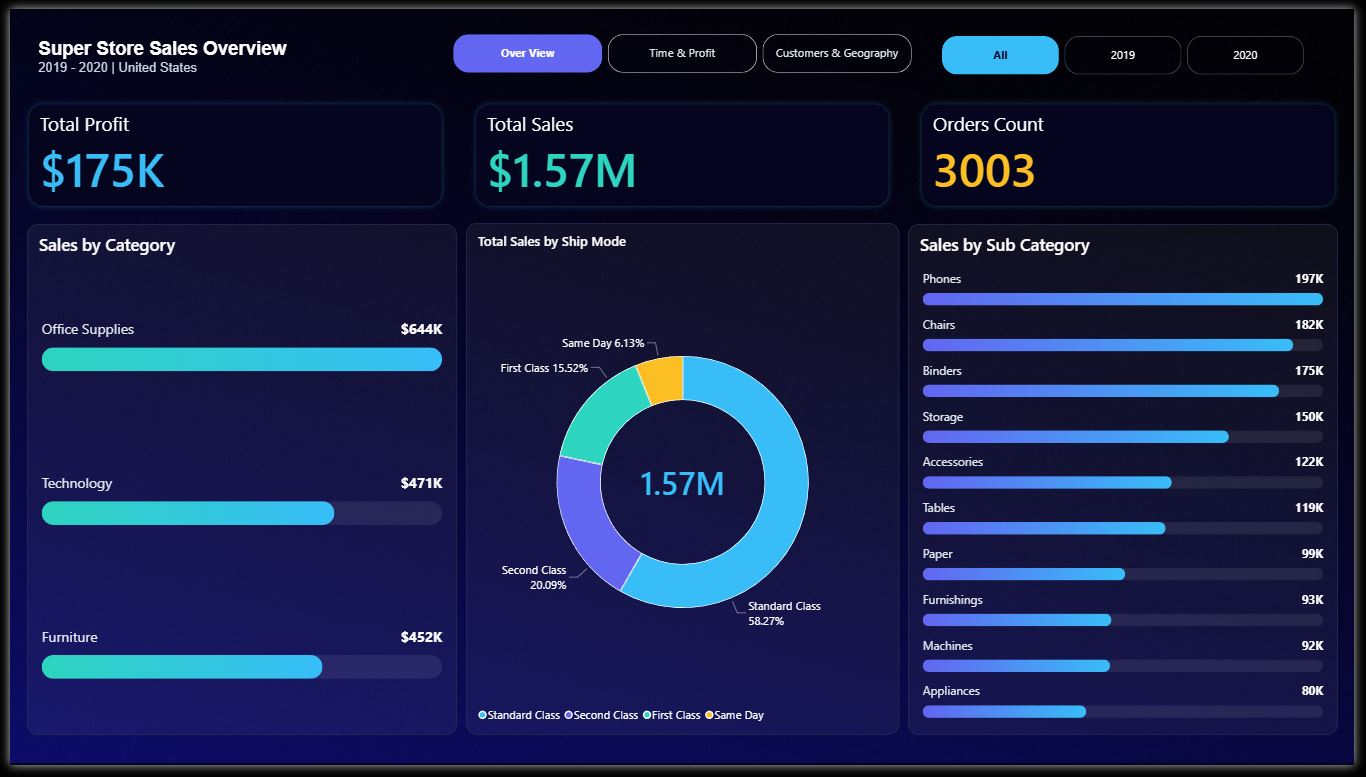

The page's visual inventory and layout, read from the dashboard file:
{"tool":"powerbi","page":{"name":"Over View","canvas":[1920,1080],"ordinal":0},"visuals":[{"type":"textbox","box":[24.3,30,434.3,82.9],"z":0},{"type":"cardVisual","fields":{"Data":["SuperStore_Sales_Dataset.Total Profit"]},"box":[0,112.9,644.3,192.9],"z":1000},{"type":"slicer","fields":{"Values":["SuperStore_Sales_Dataset.Order Year"]},"box":[1400,64.3,17.1,7.1],"z":2000},{"type":"bookmarkNavigator","box":[1331.4,38.6,517.1,55.7],"z":3000},{"type":"cardVisual","fields":{"Data":["SuperStore_Sales_Dataset.Total Sales"]},"box":[637.9,112.9,644.3,192.9],"z":4000},{"type":"cardVisual","fields":{"Data":["SuperStore_Sales_Dataset.Orders Count"]},"box":[1275.7,112.9,644.3,192.9],"z":5000},{"type":"deneb7E15AEF80B9E4D4F8E12924291ECE89A","title":"Sales by Category","fields":{"dataset":["SuperStore_Sales_Dataset.Total Sales","SuperStore_Sales_Dataset.Category"]},"box":[24.3,306.5,614.3,730],"z":6000},{"type":"deneb7E15AEF80B9E4D4F8E12924291ECE89A","title":"Sales by Cub Category","fields":{"dataset":["SuperStore_Sales_Dataset.Sub-Category","SuperStore_Sales_Dataset.Total Sales"]},"box":[1282.9,306.5,614.3,730],"z":7000},{"type":"pageNavigator","box":[627.1,30,667.1,67.1],"z":8000},{"type":"donutChart","fields":{"Category":["SuperStore_Sales_Dataset.Ship Mode"],"Y":["SuperStore_Sales_Dataset.Total Sales"]},"box":[651.2,305.6,619,731],"z":9000}]}

Visuals, with their boxes in screenshot pixels (x1, y1, x2, y2), scaled from the page's 1920x1080 canvas onto the 1366x777 screenshot:
textbox: Rect(17, 22, 326, 81)
cardVisual - SuperStore_Sales_Dataset.Total Profit: Rect(0, 81, 458, 220)
slicer - SuperStore_Sales_Dataset.Order Year: Rect(996, 46, 1008, 51)
bookmarkNavigator: Rect(947, 28, 1315, 68)
cardVisual - SuperStore_Sales_Dataset.Total Sales: Rect(454, 81, 912, 220)
cardVisual - SuperStore_Sales_Dataset.Orders Count: Rect(908, 81, 1365, 220)
"Sales by Category" deneb7E15AEF80B9E4D4F8E12924291ECE89A: Rect(17, 221, 454, 746)
"Sales by Cub Category" deneb7E15AEF80B9E4D4F8E12924291ECE89A: Rect(913, 221, 1350, 746)
pageNavigator: Rect(446, 22, 921, 70)
donutChart - SuperStore_Sales_Dataset.Ship Mode x SuperStore_Sales_Dataset.Total Sales: Rect(463, 220, 904, 746)
